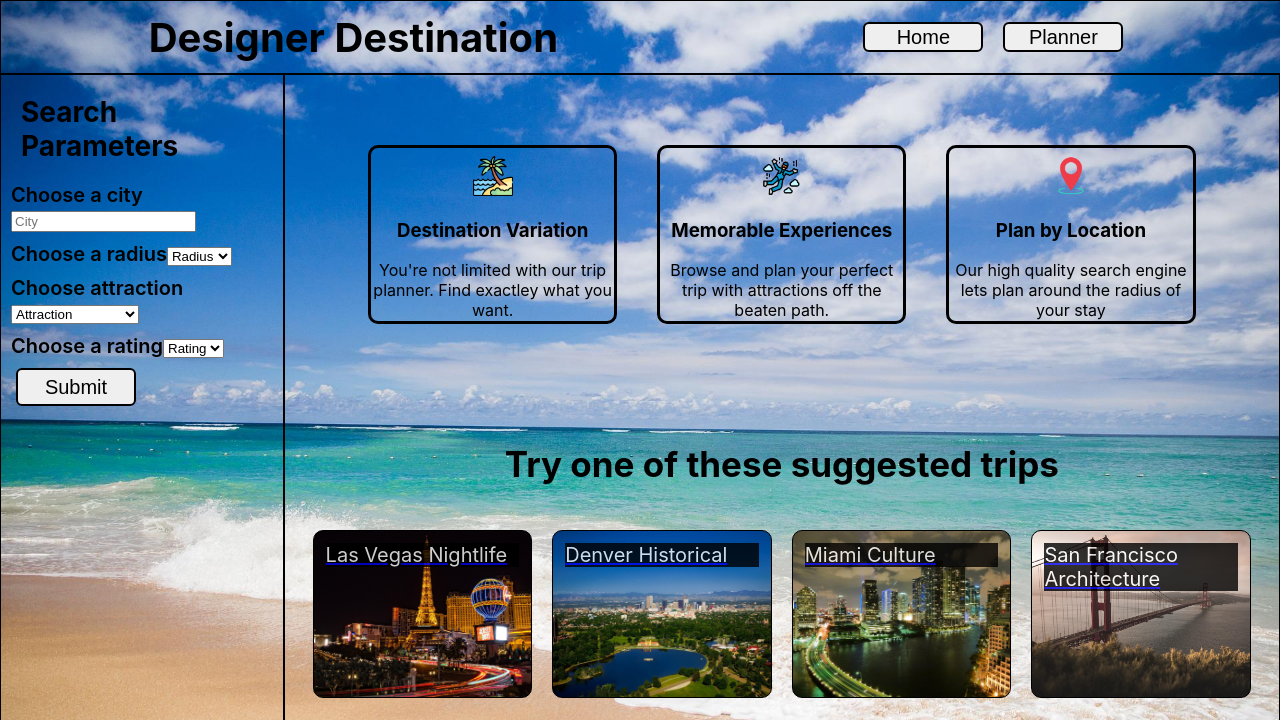
Test: Attractions dashboard user flows › should return an error if fetch fails
Click the element with class "suggest-card-one". click: coordinates (423, 614)
box: [313, 530, 533, 698]
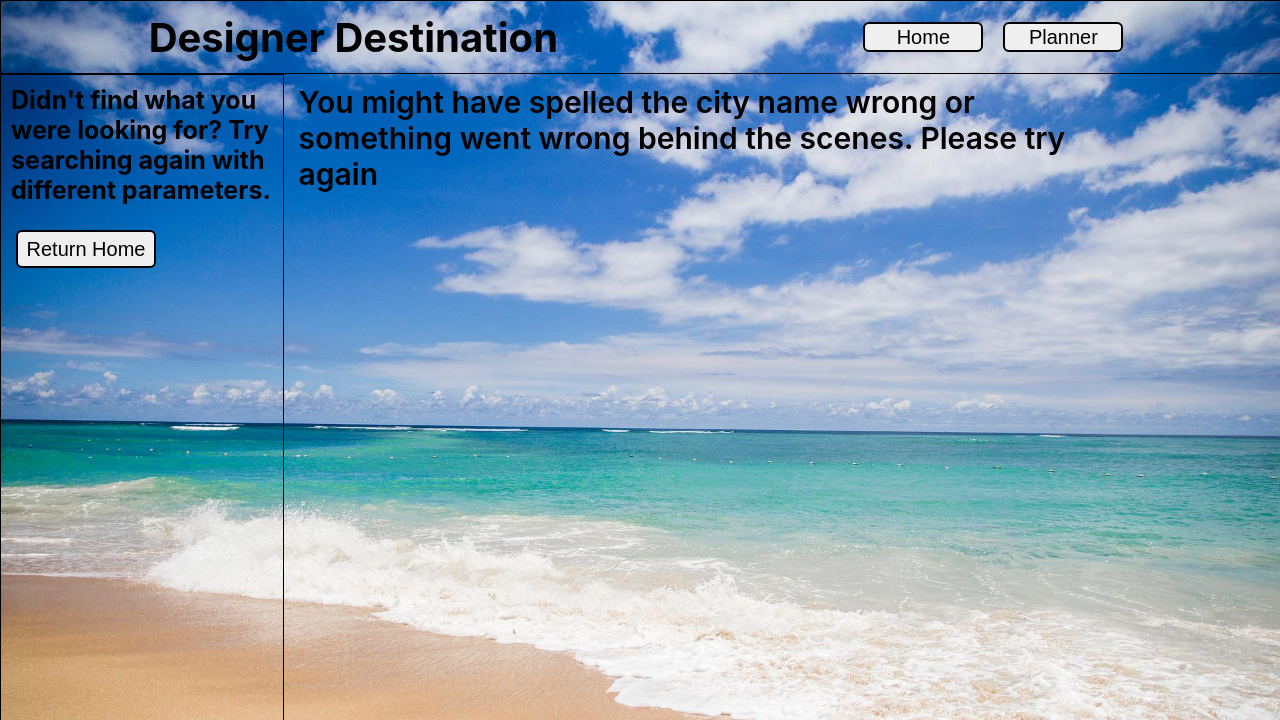
Now the text "You might have spelled the city name wrong or something went wrong behind the scenes. Please try again" is shown, box [299, 84, 1067, 192]
